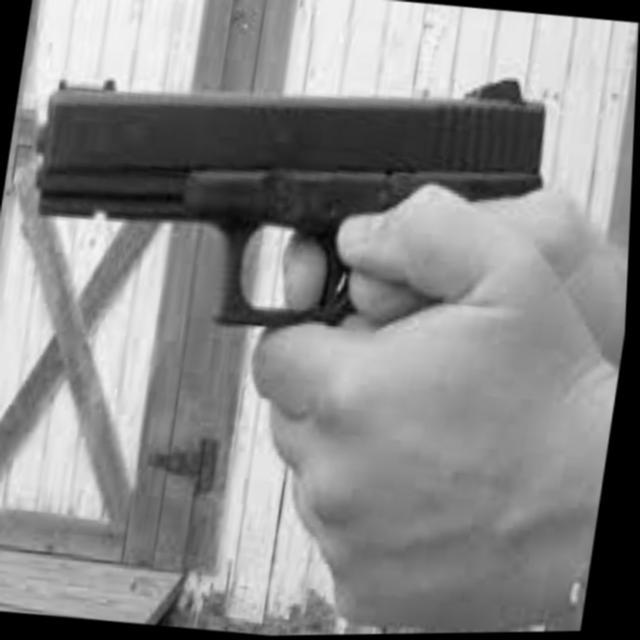weapon: (11, 27, 562, 360)
